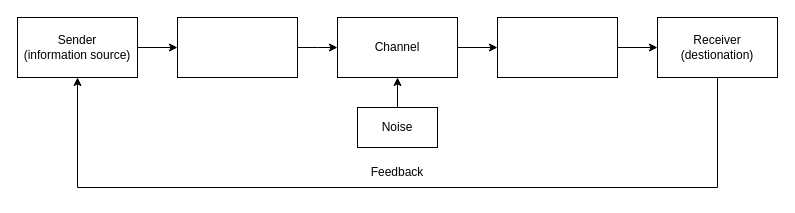
The diagram is 795 pixels wide and 213 high, and some of its shapes have lost their labels. Here are the shapes that lost their labels. From the top down, the box of each, then its label:
(176, 16, 298, 78): Encoder (transmitter)
(496, 16, 618, 78): Decoder (reception)
